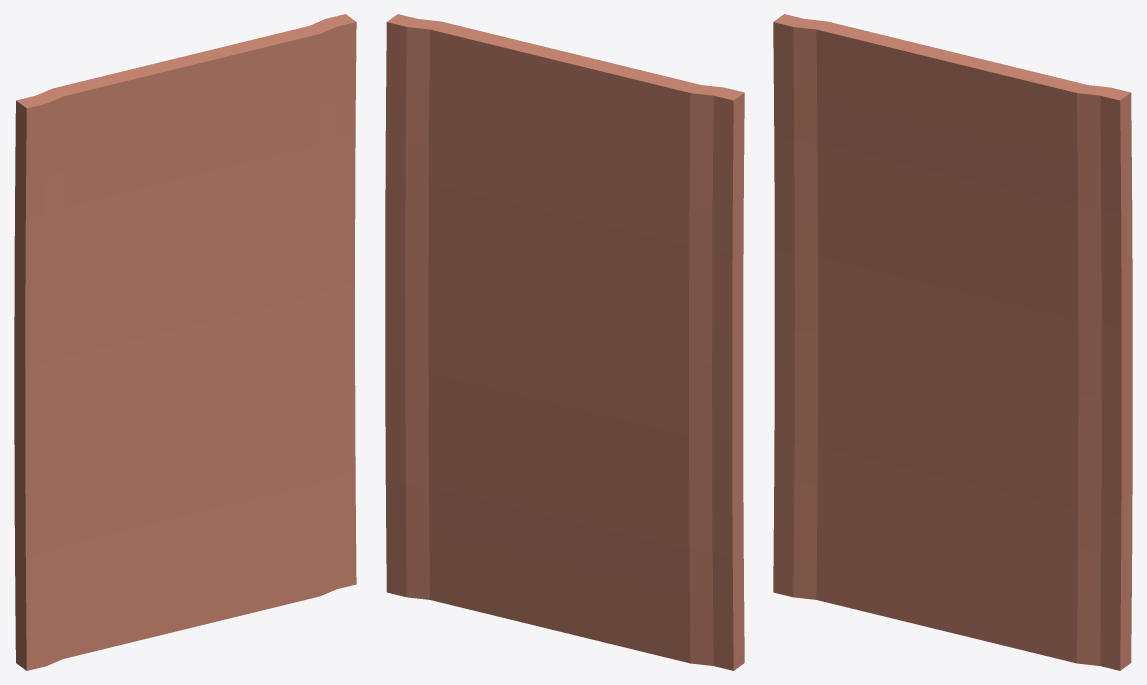
Rendered from strangfalzziegel.glb.
The picture shows the model from 3 angles, left to right: view 1: azimuth 30°, elevation 25°; view 2: azimuth 150°, elevation 25°; view 3: azimuth 330°, elevation 25°; orthographic projection.
Parts seen in each view (by area): view 1: world; view 2: world; view 3: world.
Boxes of the visible parts, box(x1,y1,x2,y2) form: world: box(14, 14, 356, 670); world: box(385, 14, 744, 670); world: box(773, 14, 1132, 670).
Bounding box in the file's own units: 0.25 × 0.4 × 0.024.
